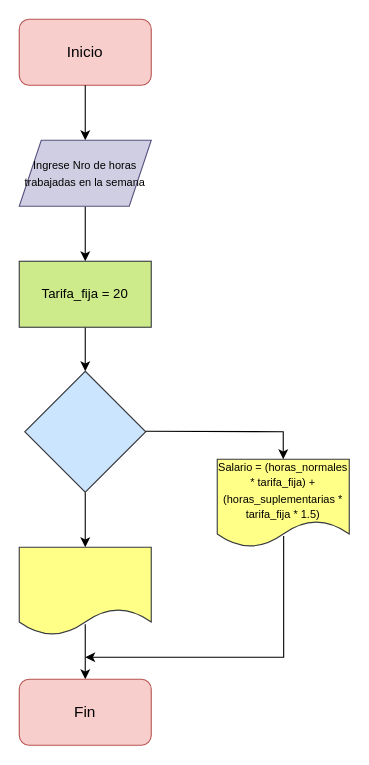
Some shapes in this 369 by 765 pixel diagram are drawn without their labels. Here are the shapes that lost their labels. From the top down, the centre of each, then its label:
the point at 85,431: Horas_trabajadas <= 40
the point at 84,590: salario = horas_trabajadas * tarifa_fija
